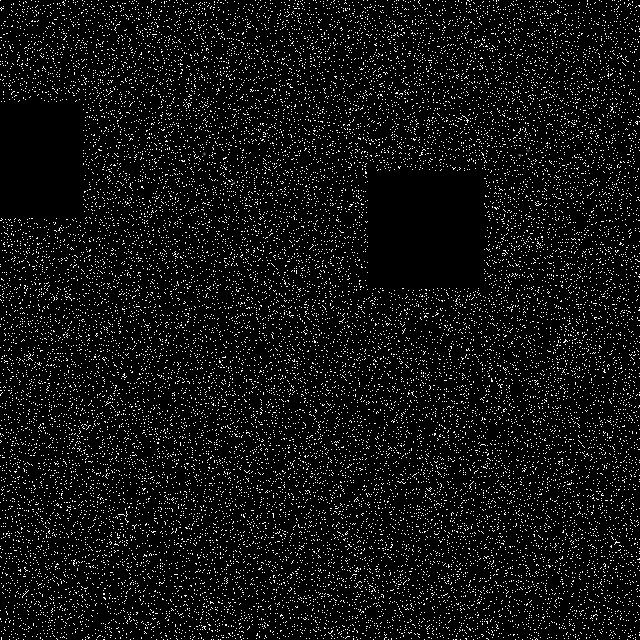QR_CODE: (114, 242, 312, 388), (375, 355, 500, 450), (424, 252, 525, 332)
